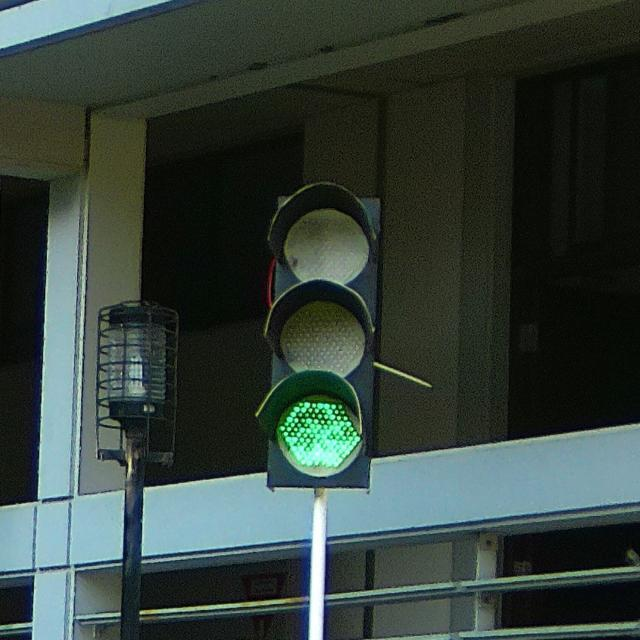green_light: (252, 182, 389, 502)
